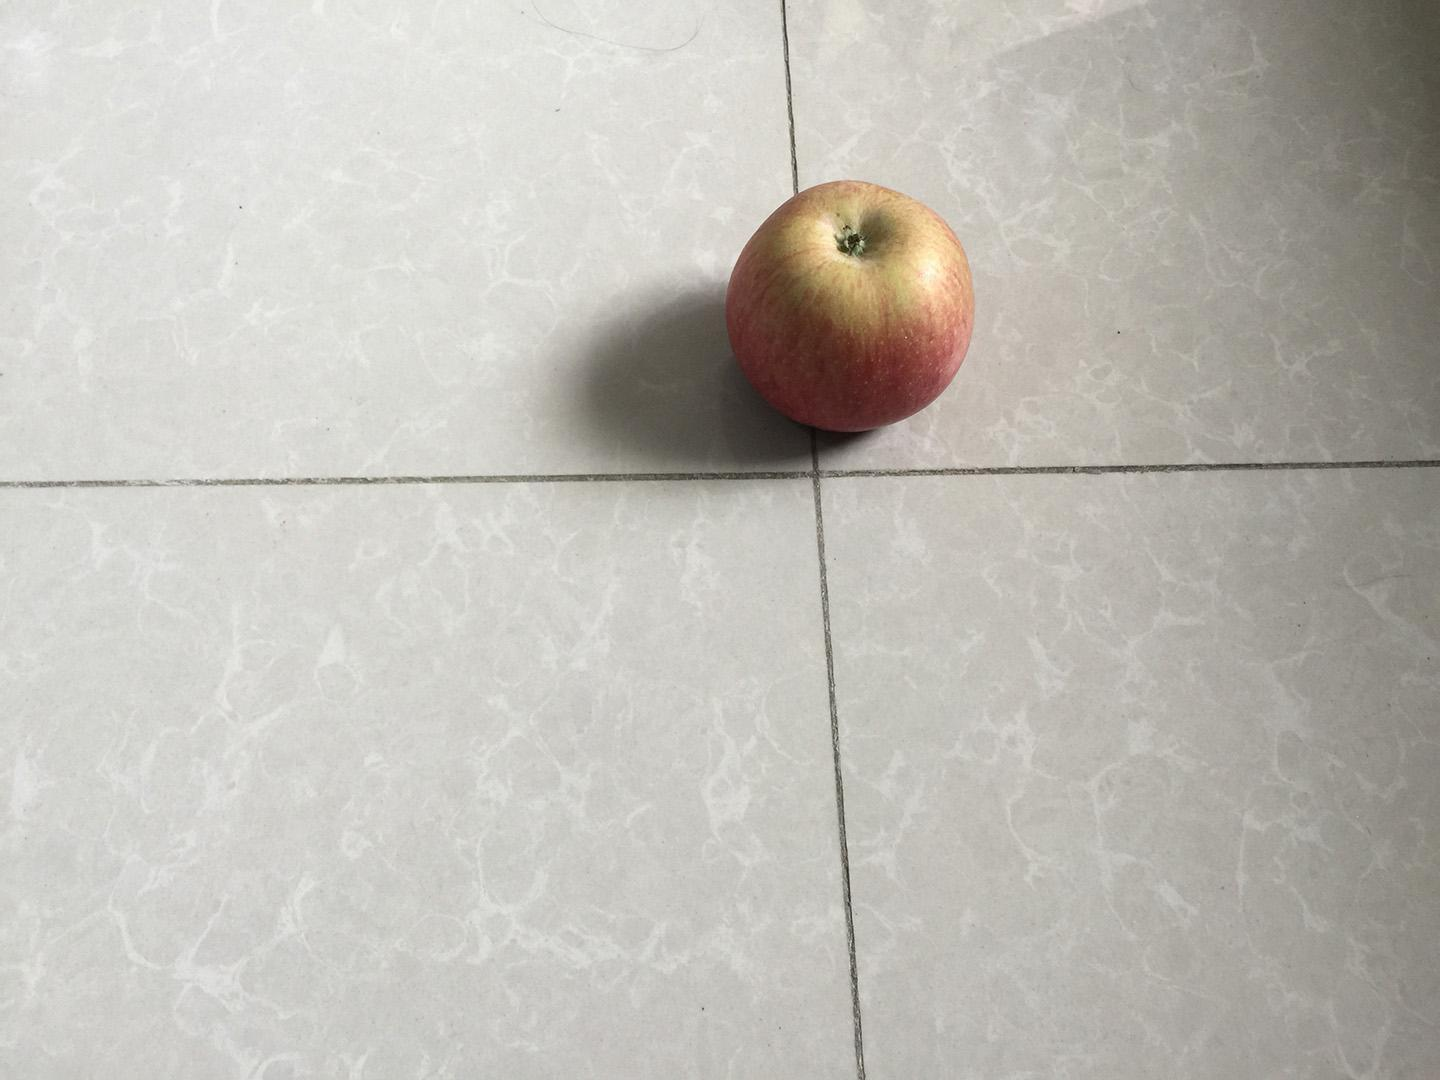apple: (719, 172, 983, 441)
